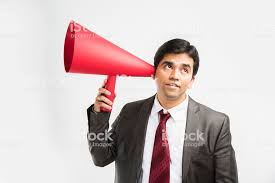Indian_Male: (148, 35, 198, 99)
